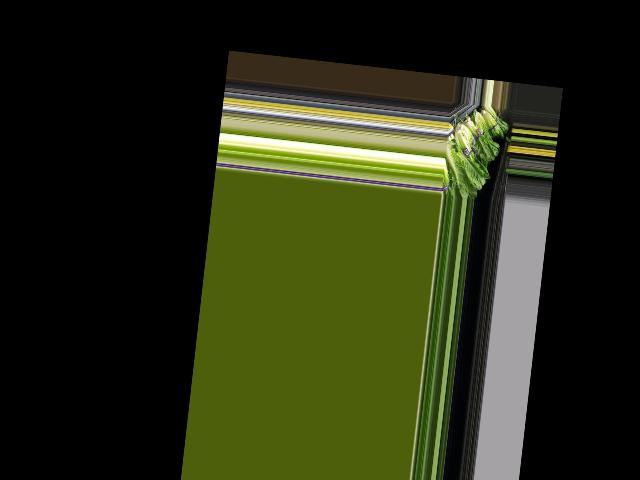lettuce: (443, 141, 487, 198)
